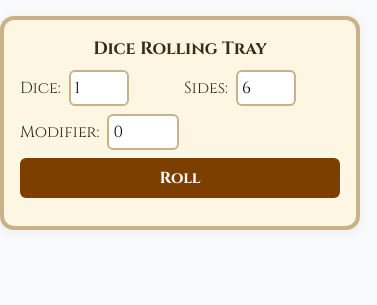
DiceTray Component - Fix Validation › Dice Rolling Functionality › handles modifier correctly
Step 1. Replace the text in the number field labelled "Modifier:" with "5" → (143, 132), box [107,114,179,150]
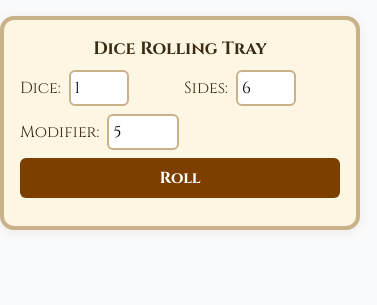
Step 2. Click the button "Roll" → (180, 178), box [20,158,340,198]
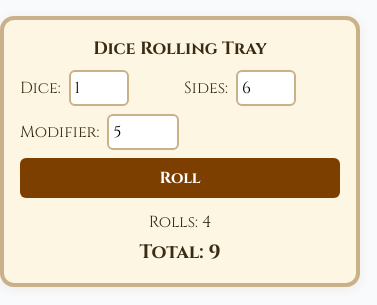
Expected: the text "Total: 9" is shown, [140,239,220,265]
